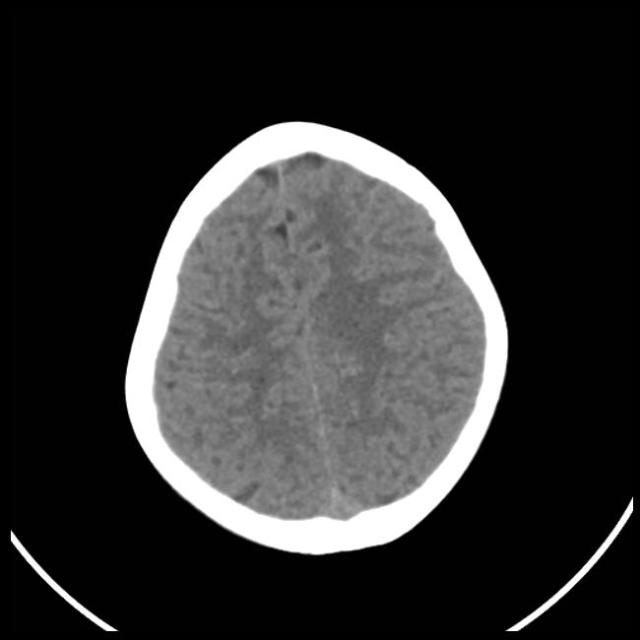lesion: (122, 118, 511, 555)
